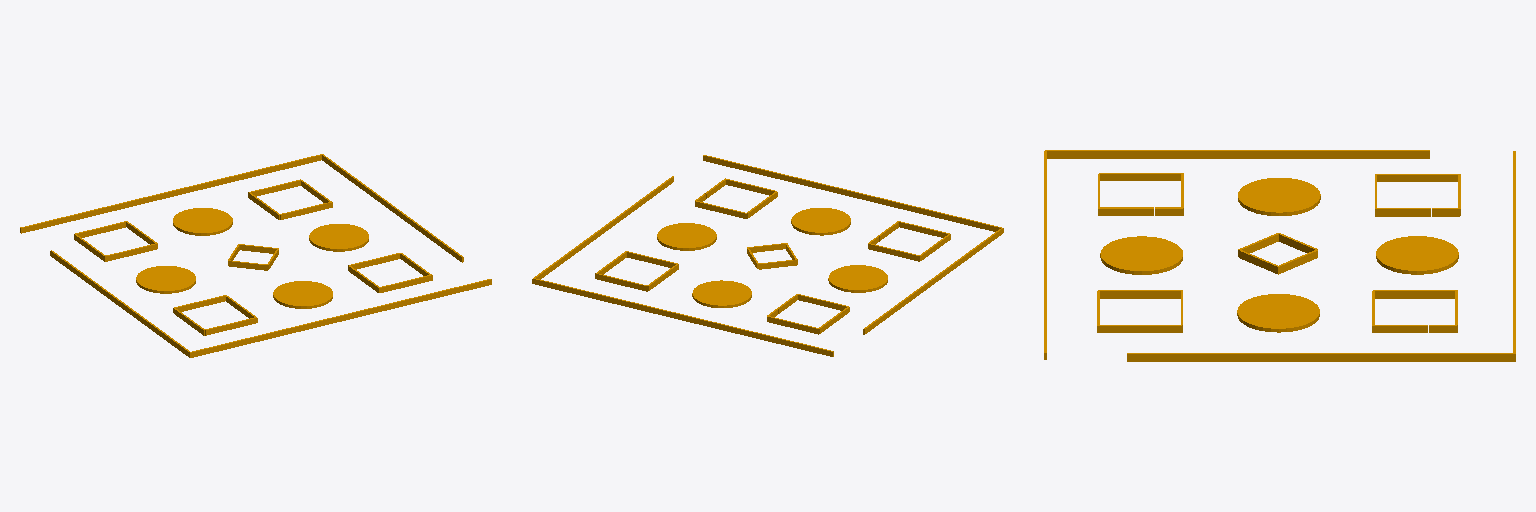
robot.urdf — maze_big:
<?xml version="1.0"?>


<robot name="maze_big" static="true">

	<link name="maze_big">
		<inertial>
			<origin xyz="0 0 1"/>
			<mass value="100.0"/>
			<inertia ixx="100.0" ixy="0.0" ixz="0.0" iyy="100.0" iyz="0.0" izz="100.0"/>
		</inertial>
		<collision name="room_collision">
            		<geometry>

                		<mesh filename="package://edufill_gazebo_world/common/worlds/edufill_maze_island.dae" scale="1 1 1"/>
            		</geometry>
        	</collision>
		<visual>
			<geometry>
				<mesh filename= "package://edufill_gazebo_world/common/worlds/edufill_maze_island.dae" scale="1 1 1"/>
			</geometry>
		</visual>
	</link>
  <gazebo reference="maze_big">
	<material>Gazebo/White</material>
	<selfCollide>true</selfCollide>
    <turnGravityOff>false</turnGravityOff>
  </gazebo>
</robot>

--- Render facts (derived) ---
The picture shows the robot from 3 angles, left to right: view 1: azimuth 30°, elevation 25°; view 2: azimuth 150°, elevation 25°; view 3: azimuth 270°, elevation 25°; orthographic projection.
Robot: maze_big — 1 links, 0 joints (none); root link maze_big; default pose: every joint at zero.
Visible links, largest first — view 1: maze_big; view 2: maze_big; view 3: maze_big.
Link boxes in pixels (x1=…): maze_big: x1=20, y1=154, x2=491, y2=357; maze_big: x1=532, y1=155, x2=1003, y2=356; maze_big: x1=1044, y1=150, x2=1515, y2=361.
Size in the robot's own frame: 17.48 by 17.05 by 0.3 metres.
1 mesh visuals loaded from 1 distinct referenced files (1 Collada DAE).